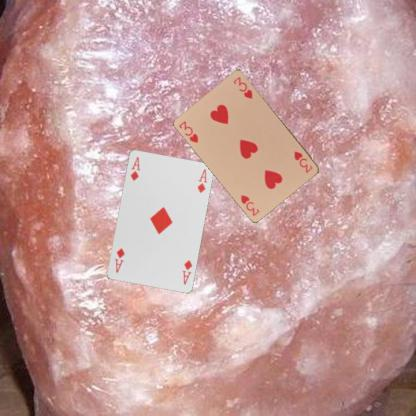3h: (177, 118, 200, 144), (292, 148, 314, 174)
Ad: (180, 257, 194, 286), (128, 154, 141, 182)
